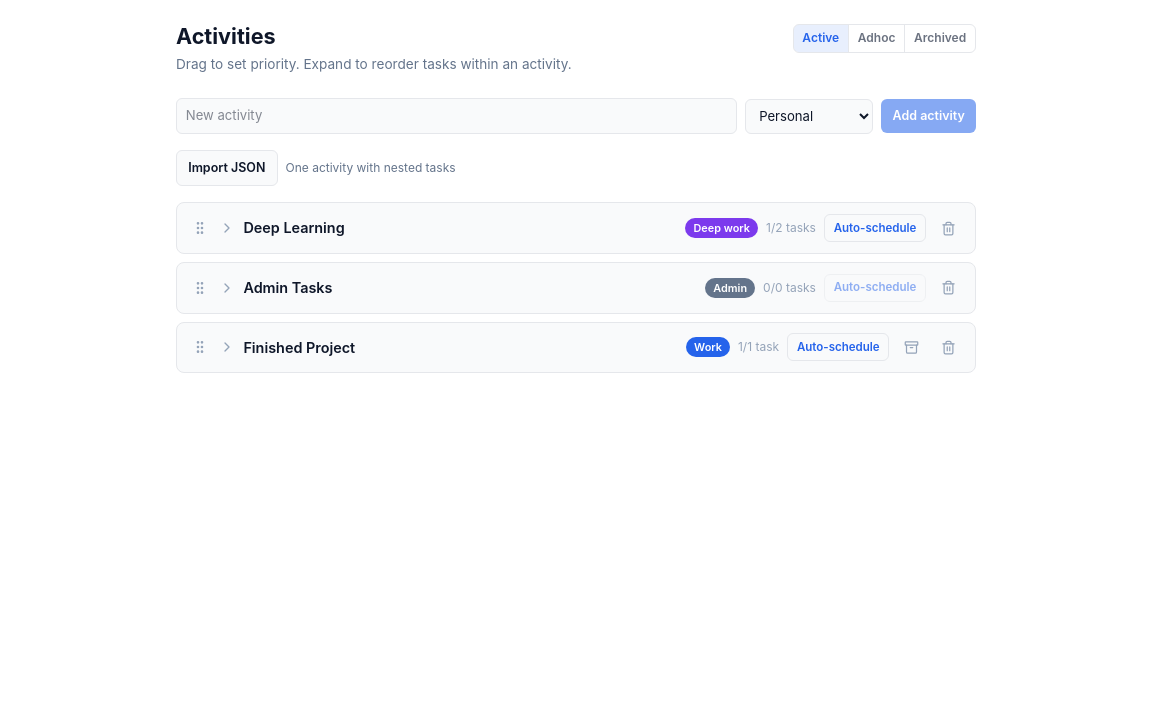
Test: ActivitiesPage › opens auto-schedule modal from activity header
This screenshot has width=1152, height=720.
What coordinates should you click on to do the following:
click the button with aria-label "Auto-schedule Deep Learning"
I would click on:
 (875, 228)
Its box is [824,214,926,242].
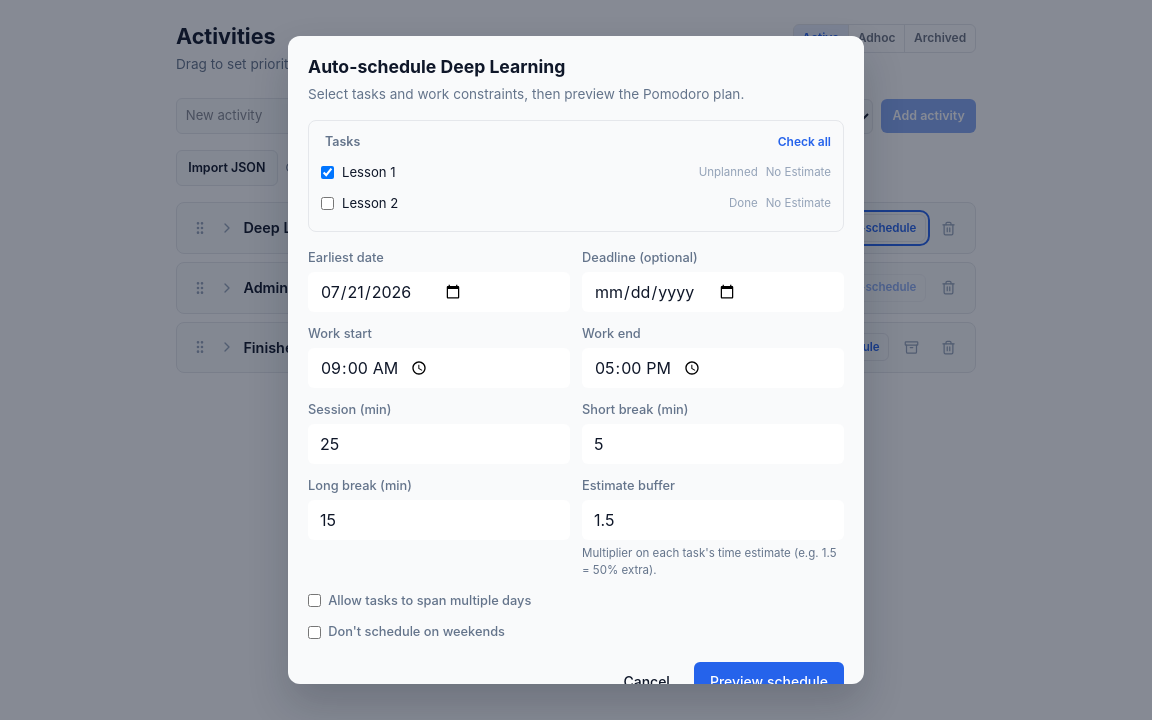
Result: the dialog shows "Auto-schedule Deep Learning" at [288,36,864,684]
Result: the checkbox labelled "Lesson 1 unplanned No estimate" is checked at [321,166,334,179]
